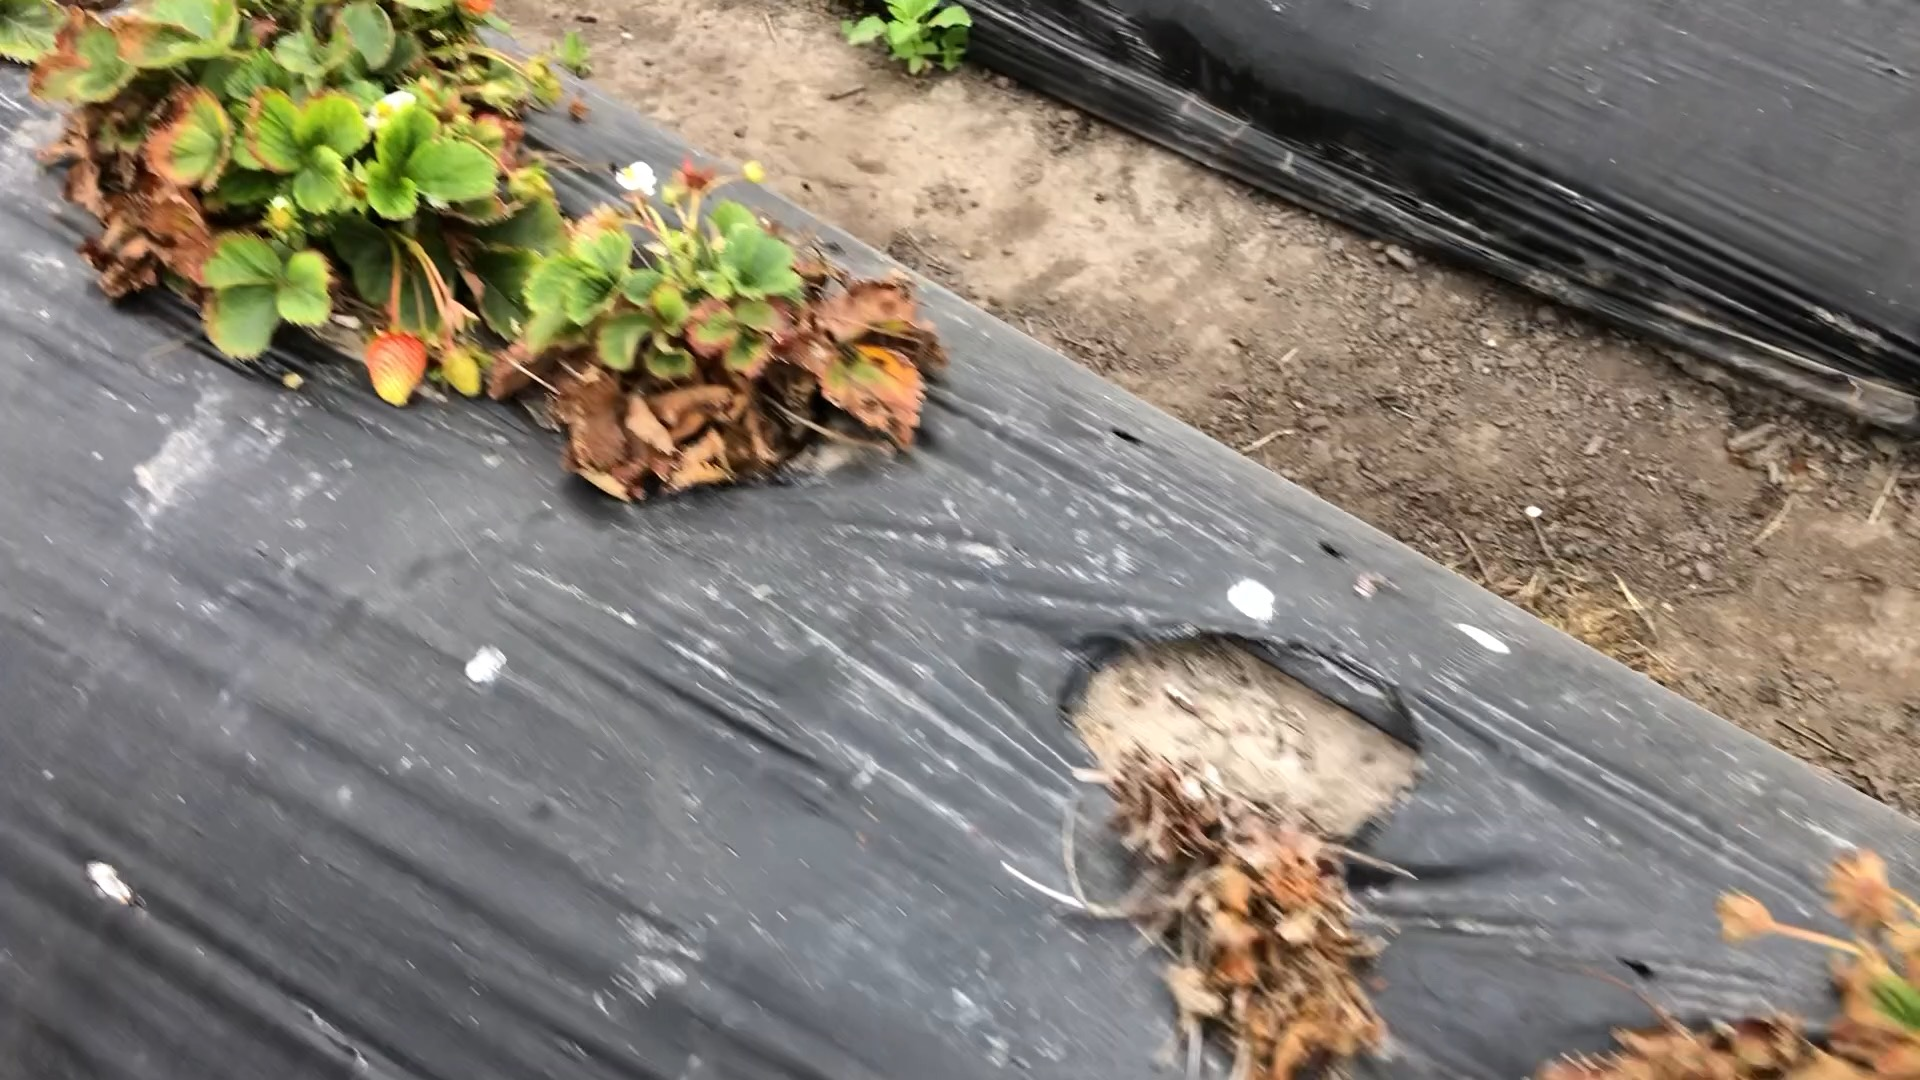unripe_strawberry: (360, 326, 431, 411), (431, 338, 492, 404)
